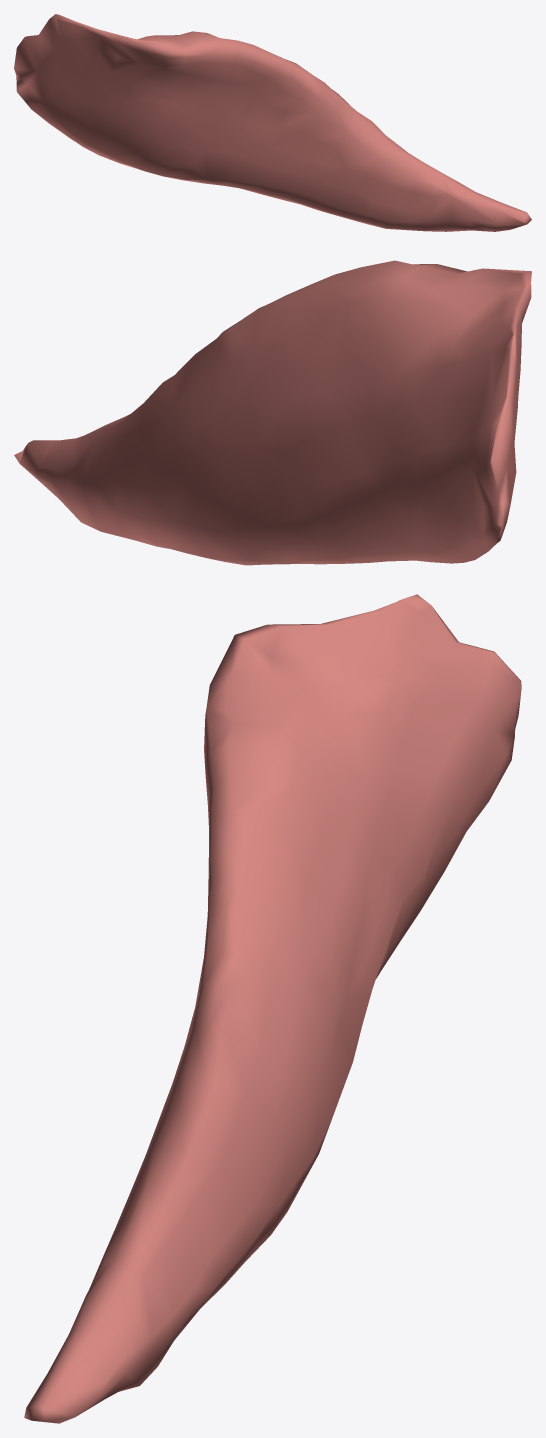
The picture shows the model from 3 angles, top to bottom: view 1: azimuth 30°, elevation 25°; view 2: azimuth 150°, elevation 25°; view 3: azimuth 270°, elevation 25°; orthographic projection. The views are drawn at different scales.
Visible parts, largest first — view 1: ZA_e5a670ee85afed3c; view 2: ZA_e5a670ee85afed3c; view 3: ZA_e5a670ee85afed3c.
Part boxes in pixels (x1,y1,x2,y2): ZA_e5a670ee85afed3c: (14, 14, 531, 231); ZA_e5a670ee85afed3c: (14, 260, 531, 565); ZA_e5a670ee85afed3c: (24, 594, 521, 1423).
Size of the model in its own units: 0.1107 by 0.064 by 0.0598.
